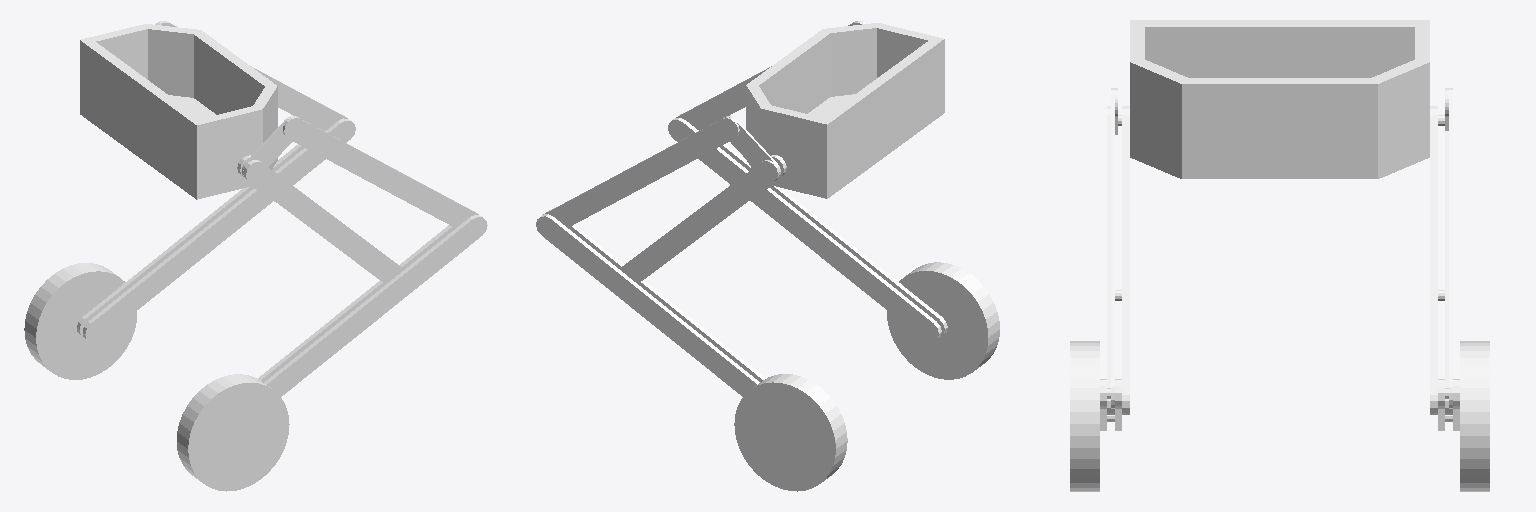
The robot description file, URDF, robot "temp_export":
<?xml version="1.0" encoding="utf-8"?>
<!-- This URDF was automatically created by SolidWorks to URDF Exporter! Originally created by [author] ([email redacted]) 
     Commit Version: 1.5.1-0-g916b5db  Build Version: 1.5.7152.31018
     For more information, please see http://wiki.ros.org/sw_urdf_exporter -->
<robot
  name="temp_export">
  <link
    name="base_link">
    <inertial>
      <origin
        xyz="-0.00342916585015192 -6.93889390390723E-17 0.00689675694280451"
        rpy="0 0 0" />
      <mass
        value="1.00169522445176" />
      <inertia
        ixx="0.00445320255719505"
        ixy="2.80473693785691E-17"
        ixz="1.27349613339913E-05"
        iyy="0.00171622242915511"
        iyz="-1.23446424262433E-17"
        izz="0.00521083651104351" />
    </inertial>
    <visual>
      <origin
        xyz="0 0 0"
        rpy="0 0 0" />
      <geometry>
        <mesh
          filename="package://temp_export/meshes/base_link.STL" />
      </geometry>
      <material
        name="green">
        <color
          rgba="1 1 1 1" />
      </material>
    </visual>
    <collision>
      <origin
        xyz="0 0 0"
        rpy="0 0 0" />
      <geometry>
        <mesh
          filename="package://temp_export/meshes/base_link.STL" />
      </geometry>
    </collision>
  </link>
  <link
    name="r_hip">
    <inertial>
      <origin
        xyz="0.0980897090918266 2.4980018054066E-16 0.0124490589091149"
        rpy="0 0 0" />
      <mass
        value="0.0867249717740907" />
      <inertia
        ixx="5.18492038460267E-06"
        ixy="-3.29284058245109E-19"
        ixz="-4.33347060196768E-07"
        iyy="0.000337309745579891"
        iyz="7.85347558853712E-21"
        izz="0.000337775424105076" />
    </inertial>
    <visual>
      <origin
        xyz="0 0 0"
        rpy="0 0 0" />
      <geometry>
        <mesh
          filename="package://temp_export/meshes/r_hip.STL" />
      </geometry>
      <material
        name="orange">
        <color
          rgba="1 1 1 1" />
      </material>
    </visual>
    <collision>
      <origin
        xyz="0 0 0"
        rpy="0 0 0" />
      <geometry>
        <mesh
          filename="package://temp_export/meshes/r_hip.STL" />
      </geometry>
    </collision>
  </link>
  <joint
    name="base_rhip"
    type="continuous">
    <origin
      xyz="0 -0.0949999999999995 0"
      rpy="1.5707963267949 0.759938086259391 0" />
    <parent
      link="base_link" />
    <child
      link="r_hip" />
    <axis
      xyz="0 0 1" />
  </joint>
  <link
    name="r_shank">
    <inertial>
      <origin
        xyz="0.0583627198007614 4.16333634234434E-17 0.00750000000000052"
        rpy="0 0 0" />
      <mass
        value="0.118724971774091" />
      <inertia
        ixx="7.0743001220904E-06"
        ixy="-1.92699995500353E-20"
        ixz="-6.65424753969822E-18"
        iyy="0.00085901140926275"
        iyz="1.62160424825806E-21"
        izz="0.00085972104138378" />
    </inertial>
    <visual>
      <origin
        xyz="0 0 0"
        rpy="0 0 0" />
      <geometry>
        <mesh
          filename="package://temp_export/meshes/r_shank.STL" />
      </geometry>
      <material
        name="orange">
        <color
          rgba="1 1 1 1" />
      </material>
    </visual>
    <collision>
      <origin
        xyz="0 0 0"
        rpy="0 0 0" />
      <geometry>
        <mesh
          filename="package://temp_export/meshes/r_shank.STL" />
      </geometry>
    </collision>
  </link>
  <joint
    name="r_hip_shank"
    type="continuous">
    <origin
      xyz="0.2 0 0.00999999999999844"
      rpy="0 0 -1.89156576083626" />
    <parent
      link="r_hip" />
    <child
      link="r_shank" />
    <axis
      xyz="0 0 -1" />
  </joint>
  <link
    name="r_wheel">
    <inertial>
      <origin
        xyz="2.63677968348475E-16 1.38777878078145E-17 0.0249264820289405"
        rpy="0 0 0" />
      <mass
        value="0.151432619884662" />
      <inertia
        ixx="9.94825019869745E-05"
        ixy="-1.84118715641379E-34"
        ixz="9.45173687909175E-19"
        iyy="9.94825019869744E-05"
        iyz="4.54761169938518E-21"
        izz="0.000188500032303365" />
    </inertial>
    <visual>
      <origin
        xyz="0 0 0"
        rpy="0 0 0" />
      <geometry>
        <mesh
          filename="package://temp_export/meshes/r_wheel.STL" />
      </geometry>
      <material
        name="black">
        <color
          rgba="1 1 1 1" />
      </material>
    </visual>
    <collision>
      <origin
        xyz="0 0 0"
        rpy="0 0 0" />
      <geometry>
        <mesh
          filename="package://temp_export/meshes/r_wheel.STL" />
      </geometry>
    </collision>
  </link>
  <joint
    name="r_shank_wheel"
    type="continuous">
    <origin
      xyz="0.2 0 0"
      rpy="0 0 2.65150384709565" />
    <parent
      link="r_shank" />
    <child
      link="r_wheel" />
    <axis
      xyz="0 0 1" />
  </joint>
  <link
    name="r_r">
    <inertial>
      <origin
        xyz="0.0250000000000001 -1.38777878078145E-17 0.0012499999999999"
        rpy="0 0 0" />
      <mass
        value="0.00612900985988384" />
      <inertia
        ixx="2.07575611924162E-07"
        ixy="8.40415502353876E-22"
        ixz="1.3072575881525E-20"
        iyy="2.12154010768489E-06"
        iyz="-1.00605370492761E-21"
        izz="2.32273133433834E-06" />
    </inertial>
    <visual>
      <origin
        xyz="0 0 0"
        rpy="0 0 0" />
      <geometry>
        <mesh
          filename="package://temp_export/meshes/r_r.STL" />
      </geometry>
      <material
        name="blue">
        <color
          rgba="1 1 1 1" />
      </material>
    </visual>
    <collision>
      <origin
        xyz="0 0 0"
        rpy="0 0 0" />
      <geometry>
        <mesh
          filename="package://temp_export/meshes/r_r.STL" />
      </geometry>
    </collision>
  </link>
  <joint
    name="r_hip_r"
    type="continuous">
    <origin
      xyz="0 0 0.0125000000000005"
      rpy="0 0 1.43413627566753" />
    <parent
      link="r_hip" />
    <child
      link="r_r" />
    <axis
      xyz="0 0 1" />
  </joint>
  <link
    name="r_l">
    <inertial>
      <origin
        xyz="0.107938274520451 -8.32667268468867E-17 0.00122657130136878"
        rpy="0 0 0" />
      <mass
        value="0.0235707963267949" />
      <inertia
        ixx="7.86247342530044E-07"
        ixy="-4.44692297308508E-21"
        ixz="-5.96070861810984E-08"
        iyy="0.000109159356897727"
        iyz="-4.5456958209262E-23"
        izz="0.000109918316038203" />
    </inertial>
    <visual>
      <origin
        xyz="0 0 0"
        rpy="0 0 0" />
      <geometry>
        <mesh
          filename="package://temp_export/meshes/r_l.STL" />
      </geometry>
      <material
        name="blue">
        <color
          rgba="1 1 1 1" />
      </material>
    </visual>
    <collision>
      <origin
        xyz="0 0 0"
        rpy="0 0 0" />
      <geometry>
        <mesh
          filename="package://temp_export/meshes/r_l.STL" />
      </geometry>
    </collision>
  </link>
  <joint
    name="r_r_l"
    type="continuous">
    <origin
      xyz="0.05 0 0.0025"
      rpy="0 0 -1.3139" />
    <parent
      link="r_r" />
    <child
      link="r_l" />
    <axis
      xyz="0 0 -1" />
  </joint>
  <link
    name="l_hip">
    <inertial>
      <origin
        xyz="0.0980897090917867 9.35362898246694E-15 0.0124490589091169"
        rpy="0 0 0" />
      <mass
        value="0.0867249717740907" />
      <inertia
        ixx="5.18492038460267E-06"
        ixy="8.8726701224888E-20"
        ixz="-4.33347060203464E-07"
        iyy="0.000337309745579891"
        iyz="1.60167635499817E-21"
        izz="0.000337775424105076" />
    </inertial>
    <visual>
      <origin
        xyz="0 0 0"
        rpy="0 0 0" />
      <geometry>
        <mesh
          filename="package://temp_export/meshes/l_hip.STL" />
      </geometry>
      <material
        name="orange">
        <color
          rgba="1 1 1 1" />
      </material>
    </visual>
    <collision>
      <origin
        xyz="0 0 0"
        rpy="0 0 0" />
      <geometry>
        <mesh
          filename="package://temp_export/meshes/l_hip.STL" />
      </geometry>
    </collision>
  </link>
  <joint
    name="base_lhip"
    type="continuous">
    <origin
      xyz="0 0.0949999999999995 0"
      rpy="-1.57079632679489 0.759938086259067 0" />
    <parent
      link="base_link" />
    <child
      link="l_hip" />
    <axis
      xyz="0 0 1" />
  </joint>
  <link
    name="l_shank">
    <inertial>
      <origin
        xyz="0.0583627198008347 -1.19904086659517E-13 0.00749999999999965"
        rpy="0 0 0" />
      <mass
        value="0.11872497177409" />
      <inertia
        ixx="7.07430012209053E-06"
        ixy="8.57896144802837E-16"
        ixz="6.47212900022291E-18"
        iyy="0.000859011409262748"
        iyz="1.21304566898628E-20"
        izz="0.000859721041383778" />
    </inertial>
    <visual>
      <origin
        xyz="0 0 0"
        rpy="0 0 0" />
      <geometry>
        <mesh
          filename="package://temp_export/meshes/l_shank.STL" />
      </geometry>
      <material
        name="orange">
        <color
          rgba="1 1 1 1" />
      </material>
    </visual>
    <collision>
      <origin
        xyz="0 0 0"
        rpy="0 0 0" />
      <geometry>
        <mesh
          filename="package://temp_export/meshes/l_shank.STL" />
      </geometry>
    </collision>
  </link>
  <joint
    name="l_hip_shank"
    type="continuous">
    <origin
      xyz="0.2 0 0.0100000000000024"
      rpy="0 0 1.89156576083605" />
    <parent
      link="l_hip" />
    <child
      link="l_shank" />
    <axis
      xyz="0 0 -1" />
  </joint>
  <link
    name="l_wheel">
    <inertial>
      <origin
        xyz="1.52614032522536E-13 5.09314812546791E-13 0.0249264820289405"
        rpy="0 0 0" />
      <mass
        value="0.151432619884662" />
      <inertia
        ixx="9.94825019869746E-05"
        ixy="5.12721542839305E-34"
        ixz="-9.32900118198389E-19"
        iyy="9.94825019869746E-05"
        iyz="-6.09378186350891E-20"
        izz="0.000188500032303365" />
    </inertial>
    <visual>
      <origin
        xyz="0 0 0"
        rpy="0 0 0" />
      <geometry>
        <mesh
          filename="package://temp_export/meshes/l_wheel.STL" />
      </geometry>
      <material
        name="black">
        <color
          rgba="1 1 1 1" />
      </material>
    </visual>
    <collision>
      <origin
        xyz="0 0 0"
        rpy="0 0 0" />
      <geometry>
        <mesh
          filename="package://temp_export/meshes/l_wheel.STL" />
      </geometry>
    </collision>
  </link>
  <joint
    name="l_shank_wheel"
    type="continuous">
    <origin
      xyz="0.199999999999968 0 0"
      rpy="0 0 -2.65150384709512" />
    <parent
      link="l_shank" />
    <child
      link="l_wheel" />
    <axis
      xyz="0 0 1" />
  </joint>
  <link
    name="l_r">
    <inertial>
      <origin
        xyz="0.0250000000000038 -3.43891581877642E-14 0.00125000000000022"
        rpy="0 0 0" />
      <mass
        value="0.00612900985988385" />
      <inertia
        ixx="2.07575611924162E-07"
        ixy="3.38280474587236E-18"
        ixz="-1.2362823203283E-20"
        iyy="2.1215401076849E-06"
        iyz="-7.39860742049903E-22"
        izz="2.32273133433835E-06" />
    </inertial>
    <visual>
      <origin
        xyz="0 0 0"
        rpy="0 0 0" />
      <geometry>
        <mesh
          filename="package://temp_export/meshes/l_r.STL" />
      </geometry>
      <material
        name="blue">
        <color
          rgba="1 1 1 1" />
      </material>
    </visual>
    <collision>
      <origin
        xyz="0 0 0"
        rpy="0 0 0" />
      <geometry>
        <mesh
          filename="package://temp_export/meshes/l_r.STL" />
      </geometry>
    </collision>
  </link>
  <joint
    name="l_hip_r"
    type="continuous">
    <origin
      xyz="0 0 0.0150000000000004"
      rpy="0 0 -1.43413627566782" />
    <parent
      link="l_hip" />
    <child
      link="l_r" />
    <axis
      xyz="0 0 1" />
  </joint>
  <link
    name="l_l">
    <inertial>
      <origin
        xyz="0.107938274520457 -3.47499806707674E-14 0.00122657130136863"
        rpy="0 0 0" />
      <mass
        value="0.0235707963267949" />
      <inertia
        ixx="7.86247342530037E-07"
        ixy="-1.53418842571435E-19"
        ixz="-5.96070861810148E-08"
        iyy="0.000109159356897726"
        iyz="1.16641490435391E-22"
        izz="0.000109918316038203" />
    </inertial>
    <visual>
      <origin
        xyz="0 0 0"
        rpy="0 0 0" />
      <geometry>
        <mesh
          filename="package://temp_export/meshes/l_l.STL" />
      </geometry>
      <material
        name="blue">
        <color
          rgba="1 1 1 1" />
      </material>
    </visual>
    <collision>
      <origin
        xyz="0 0 0"
        rpy="0 0 0" />
      <geometry>
        <mesh
          filename="package://temp_export/meshes/l_l.STL" />
      </geometry>
    </collision>
  </link>
  <joint
    name="l_r_l"
    type="continuous">
    <origin
      xyz="0.05 0 0.0025"
      rpy="0 0 1.3139" />
    <parent
      link="l_r" />
    <child
      link="l_l" />
    <axis
      xyz="0 0 -1" />
  </joint>
</robot>

--- Facts derived from the render (not from the file) ---
3 views of the same robot in one strip: view 1: azimuth 30°, elevation 25°; view 2: azimuth 150°, elevation 25°; view 3: azimuth 270°, elevation 25° (orthographic).
Model temp_export with 11 links and 10 joints (10 continuous), rooted at base_link, posed all joints at 0.
Links seen in each view (by area): view 1: base_link, r_wheel, l_wheel, l_shank, r_shank, r_l, r_hip, l_l, r_r; view 2: base_link, l_wheel, r_wheel, r_shank, l_shank, l_l, l_hip, r_l, l_r; view 3: base_link, r_wheel, l_wheel, r_hip, l_hip, r_l, l_l, r_shank, l_shank.
Boxes of the visible links, x1,y1,x2,y2 form: base_link: (80,24,277,199); r_wheel: (177,374,289,491); l_wheel: (24,263,136,379); l_shank: (77,114,355,342); r_shank: (258,211,487,396); r_l: (283,117,478,227); r_hip: (237,155,404,283); l_l: (155,21,347,130); r_r: (242,116,298,176); base_link: (746,23,944,198); l_wheel: (734,374,847,491); r_wheel: (887,262,999,379); r_shank: (668,114,947,341); l_shank: (536,210,766,396); l_l: (543,117,739,227); l_hip: (620,155,786,283); r_l: (676,21,865,130); l_r: (724,116,780,178); base_link: (1130,20,1429,178); r_wheel: (1070,341,1114,491); l_wheel: (1445,341,1489,491); r_hip: (1107,106,1129,414); l_hip: (1430,106,1452,414); r_l: (1111,88,1114,408); l_l: (1449,88,1452,408); r_shank: (1100,379,1121,430); l_shank: (1438,379,1459,430).
Size in the robot's own frame: 0.307 by 0.28 by 0.3317 metres.
11 mesh visuals loaded from 11 distinct referenced files (11 binary STL).